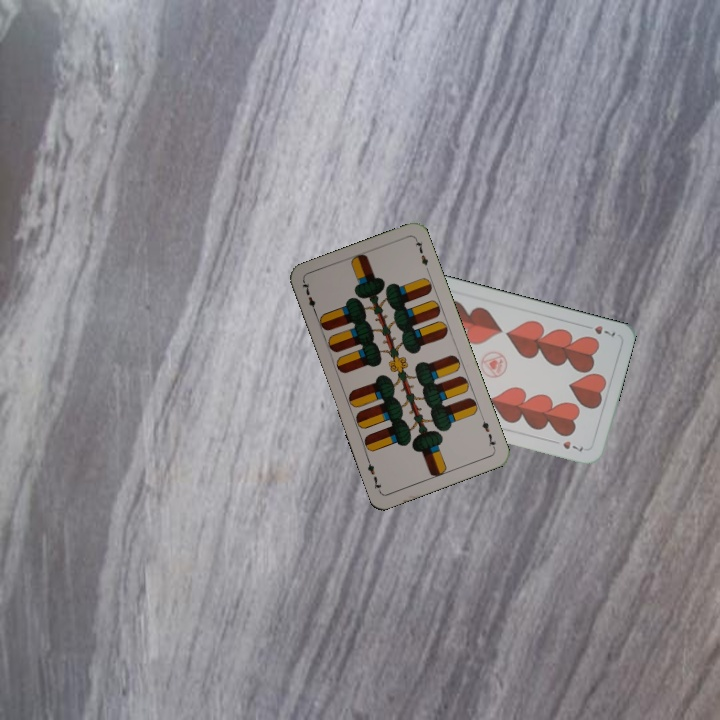E7: (298, 278, 320, 317), (477, 413, 498, 452)
H7: (580, 321, 618, 340)
